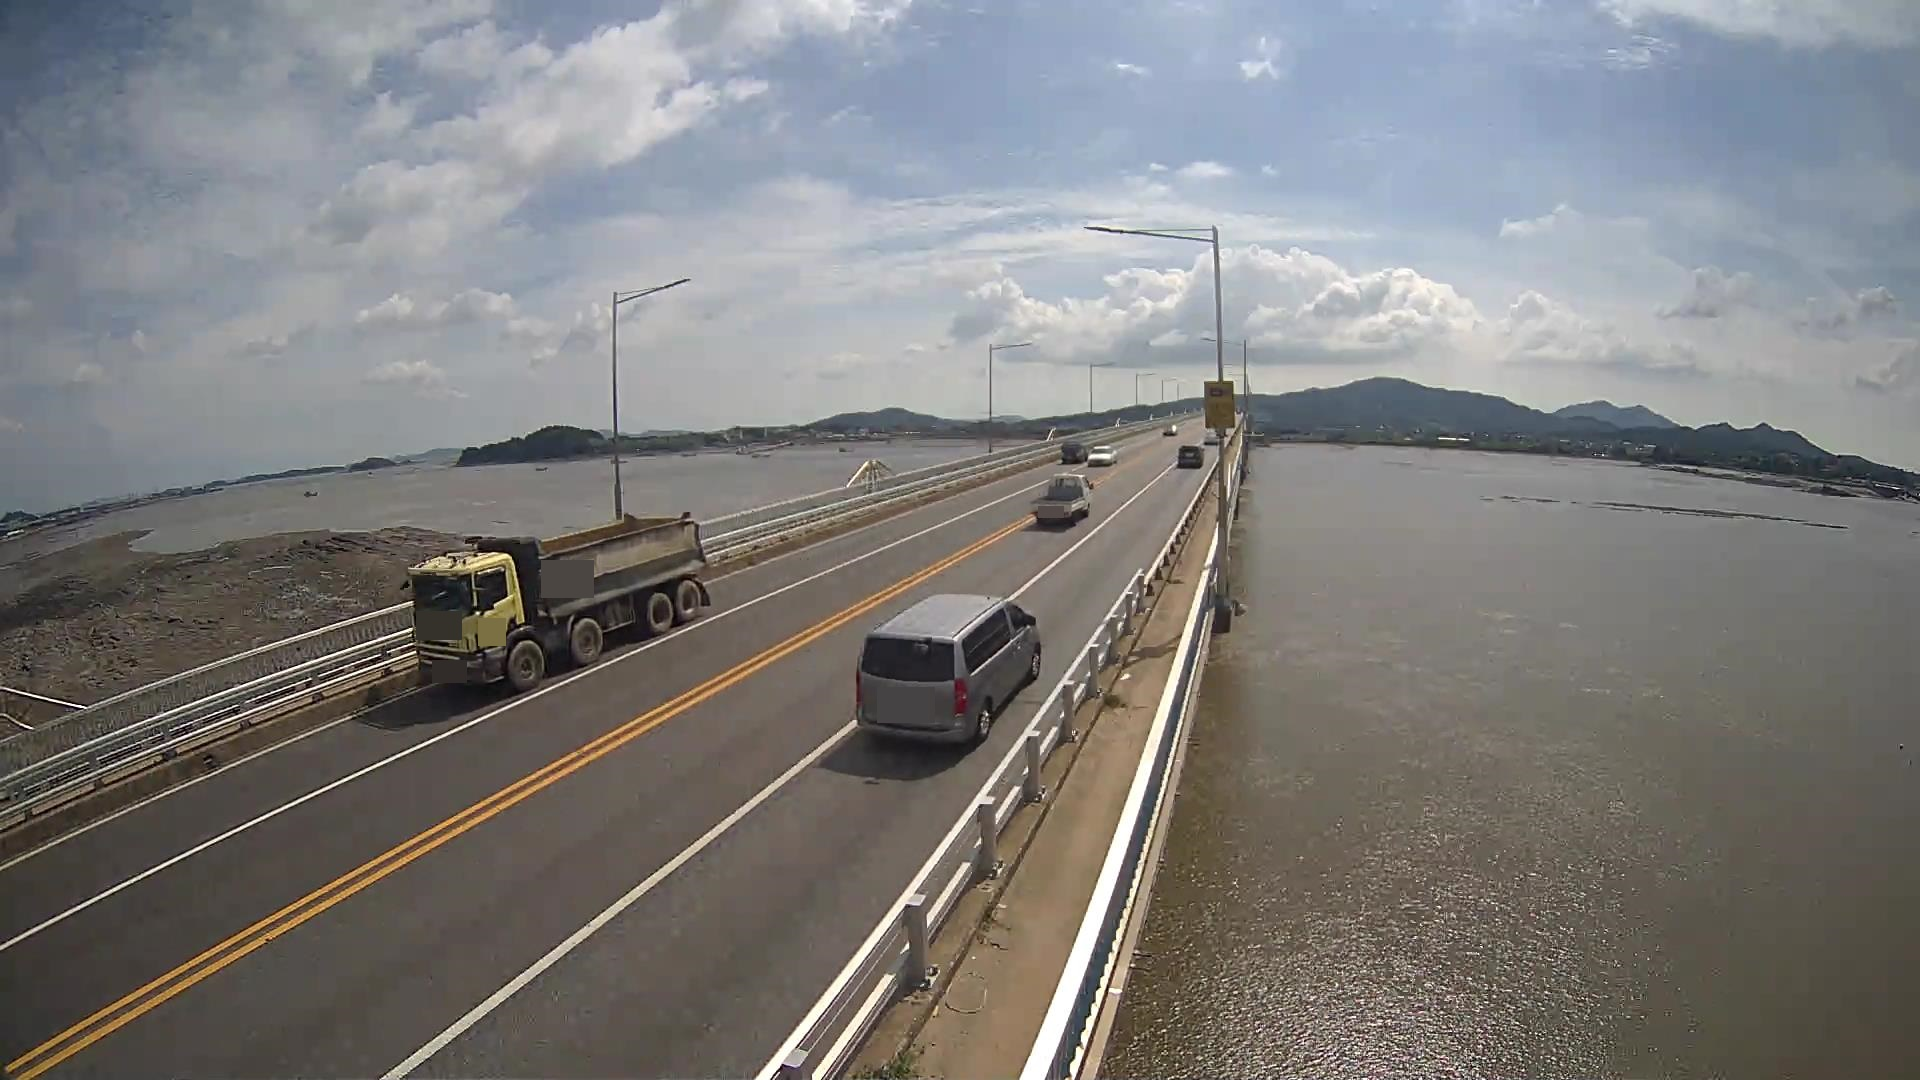정상차량: (400, 512, 711, 692)
